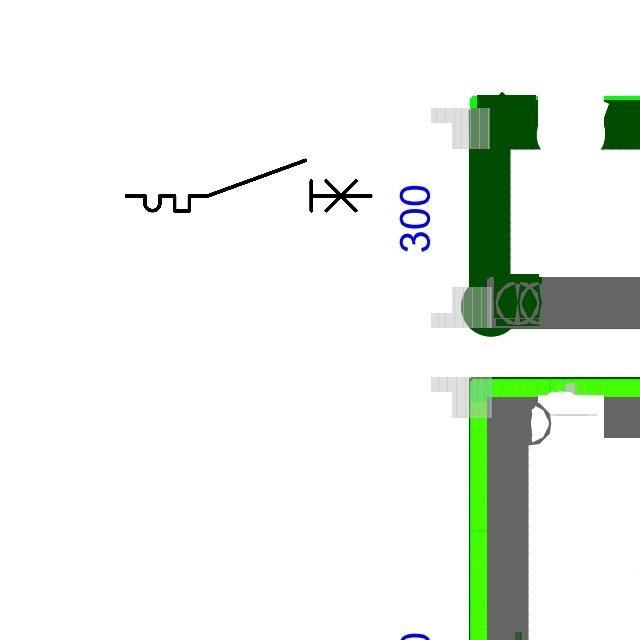interruptor_termomagnetico: (120, 154, 377, 217)
